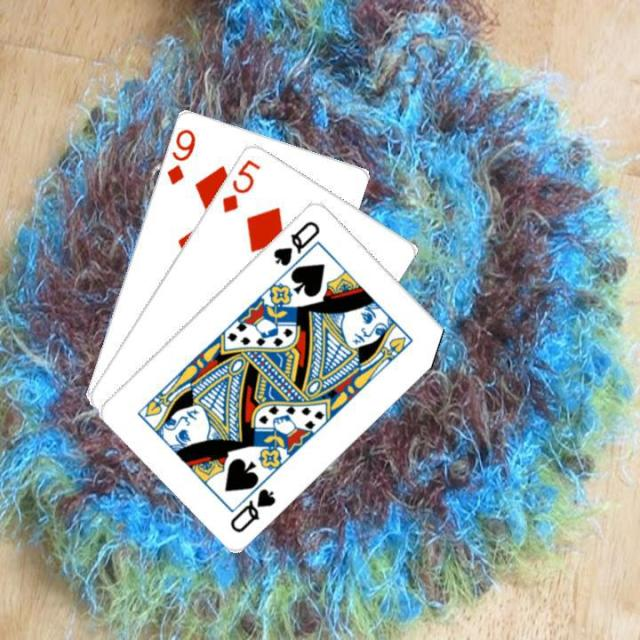5D: (218, 155, 262, 214)
9D: (163, 124, 197, 186)
QS: (269, 216, 322, 268), (226, 484, 277, 534)
